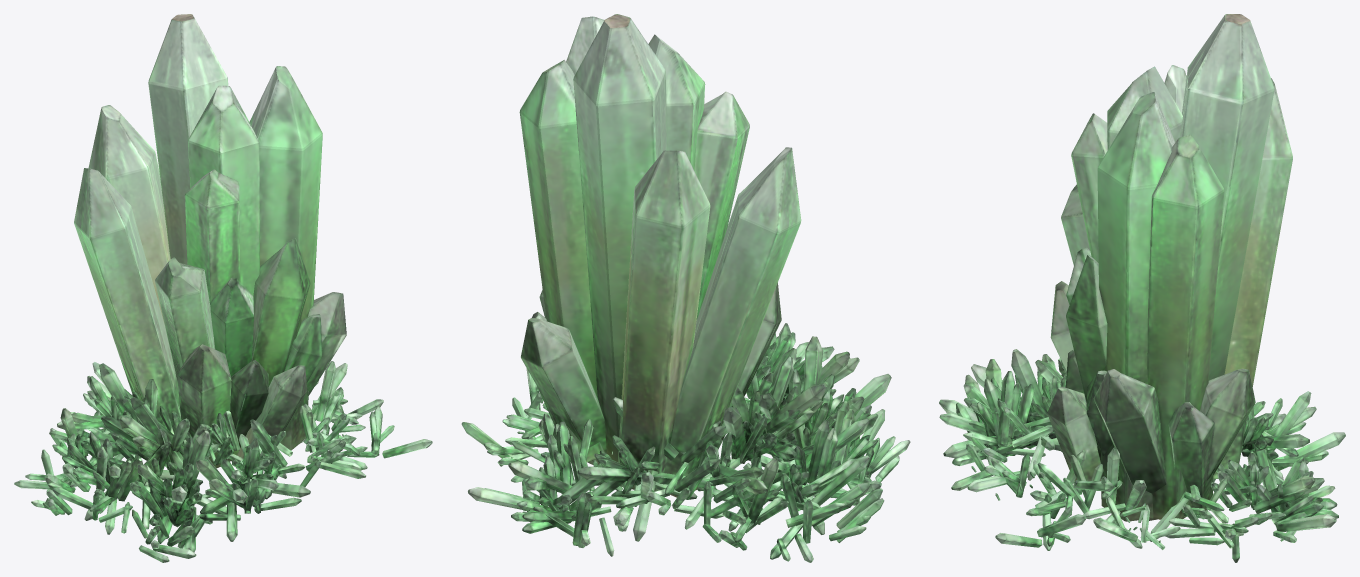
File: cristall.glb
3 renders of one model, left to right at view 1: azimuth 30°, elevation 25°; view 2: azimuth 150°, elevation 25°; view 3: azimuth 270°, elevation 25°, orthographic. The views are drawn at different scales.
Parts seen in each view (by area): view 1: cristall; view 2: cristall; view 3: cristall.
Part boxes in pixels (x1,y1,x2,y2): cristall: (14,14,432,562); cristall: (461,14,910,562); cristall: (939,14,1345,562).
Size of the model in its own units: 2.25 by 2.91 by 2.11.
Materials: 1 (1 with a texture image).
